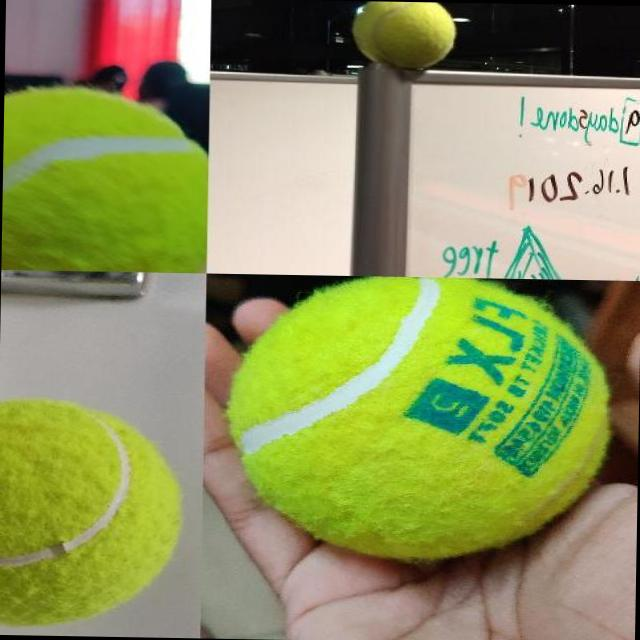Tennis Ball: (226, 273, 611, 561), (0, 394, 187, 632), (2, 85, 209, 272), (348, 0, 458, 70)
